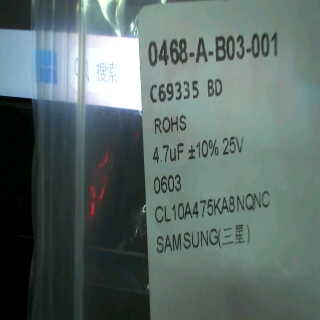4.7uF: (149, 140, 186, 168)
